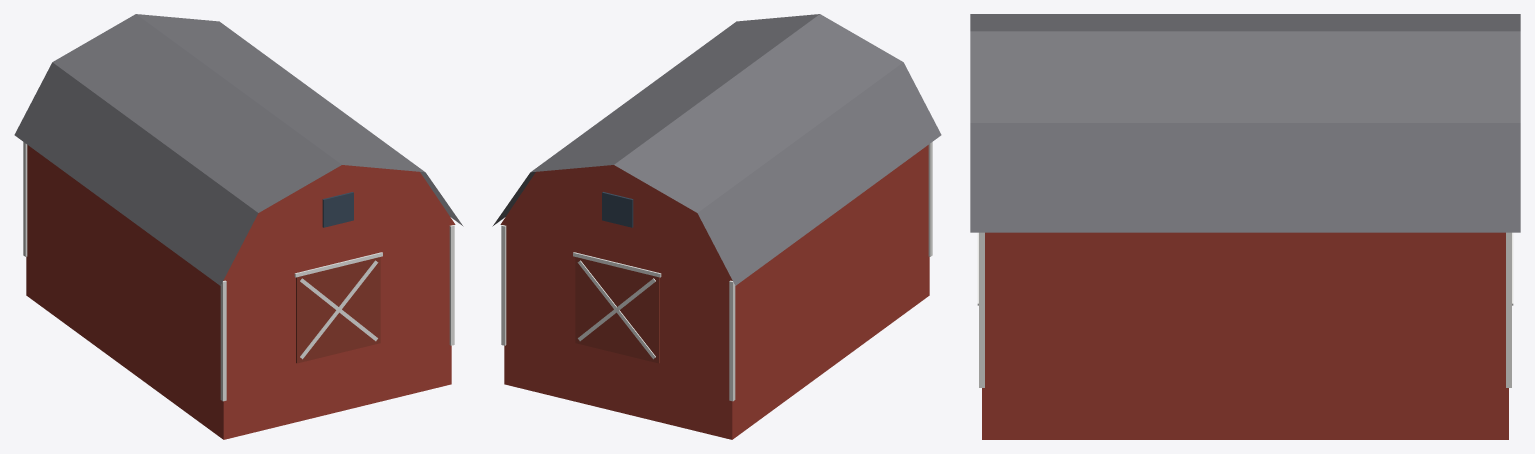
File: barn.glb
3 renders of one model, left to right at view 1: azimuth 30°, elevation 25°; view 2: azimuth 150°, elevation 25°; view 3: azimuth 270°, elevation 25°, orthographic. The views are drawn at different scales.
Parts seen in each view (by area): view 1: barn; view 2: barn; view 3: barn.
Part boxes in pixels (left/top/right/bottom): barn: left=14, top=14, right=463, bottom=439; barn: left=492, top=14, right=941, bottom=439; barn: left=970, top=14, right=1520, bottom=439.
Bounding box in the file's own units: 12.8 × 12.6 × 18.8.
